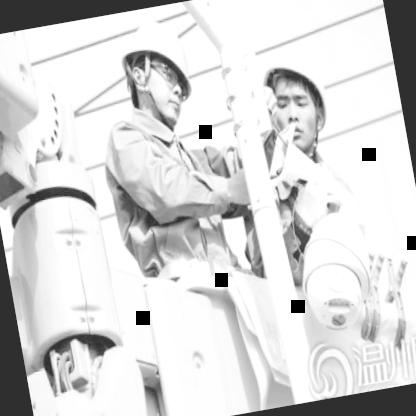helmet: (106, 0, 211, 139), (245, 27, 343, 162)
